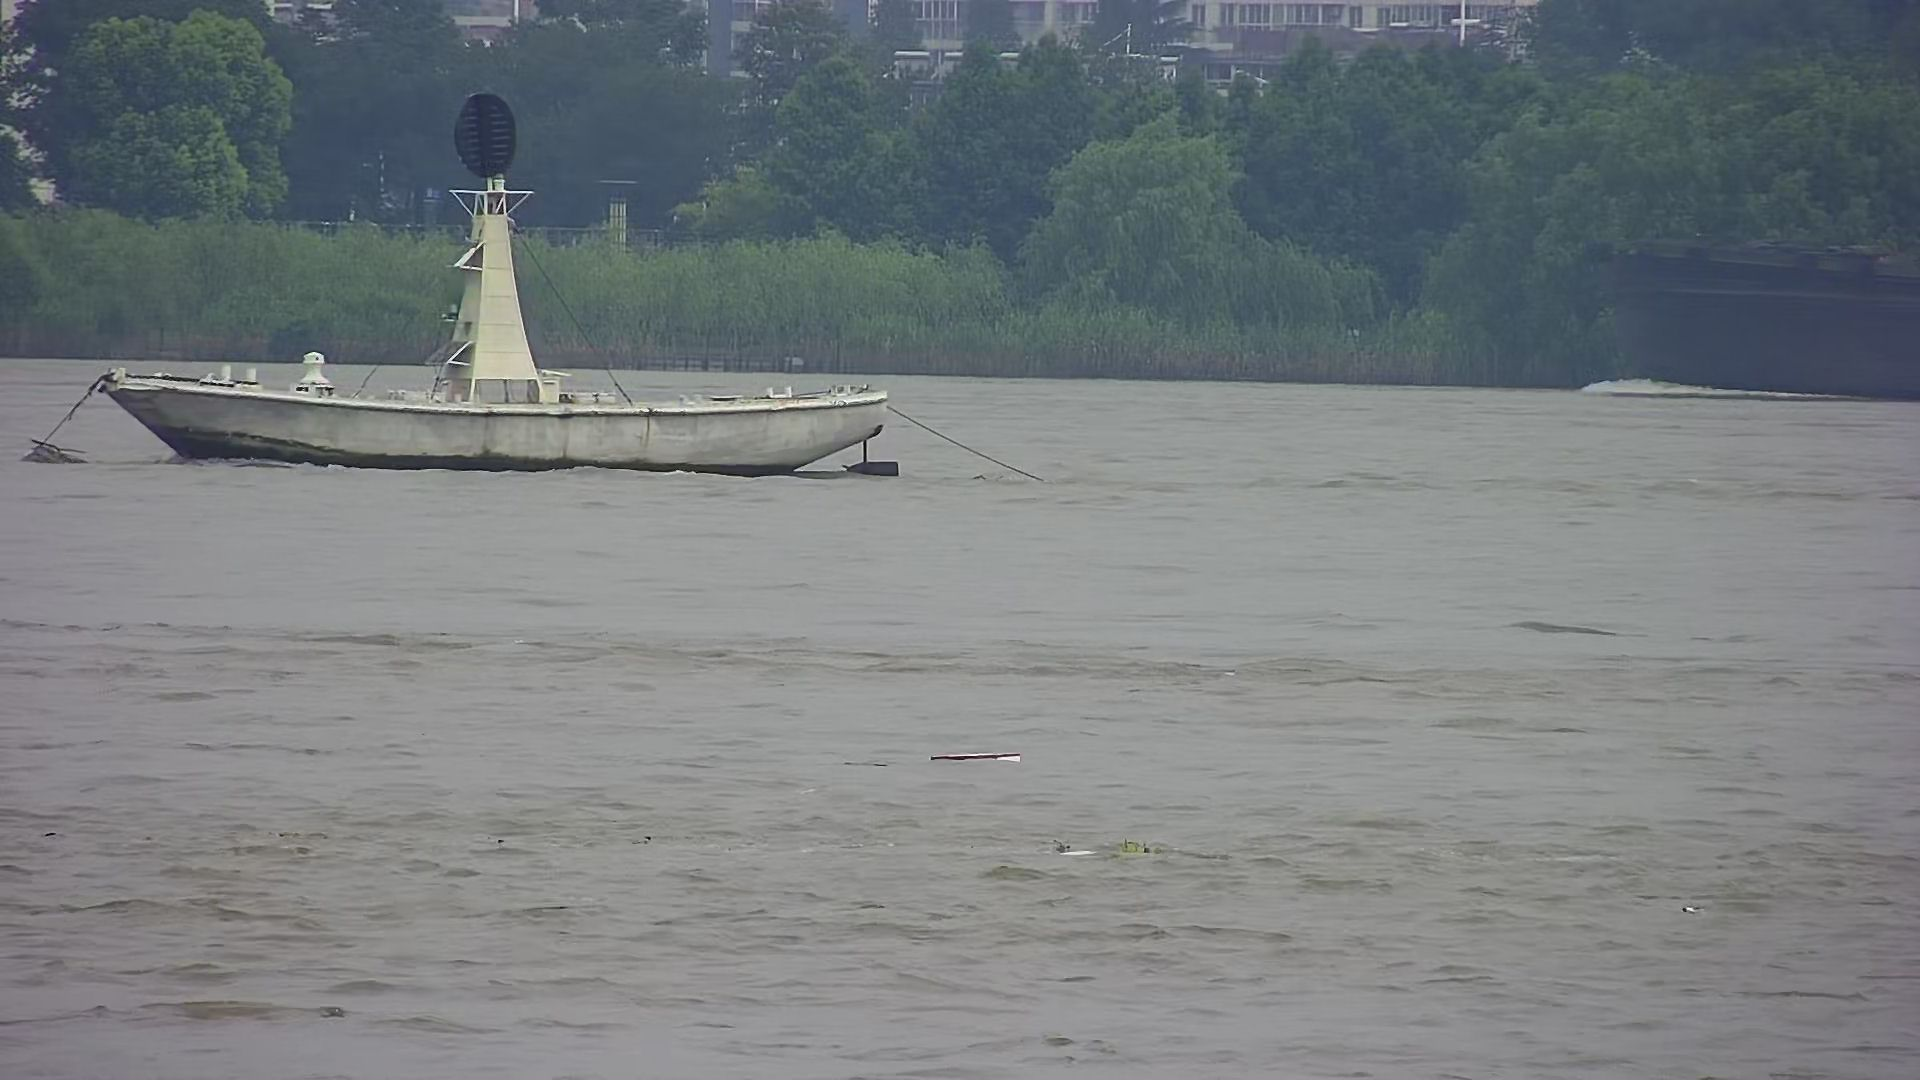boat: (54, 76, 1007, 492)
